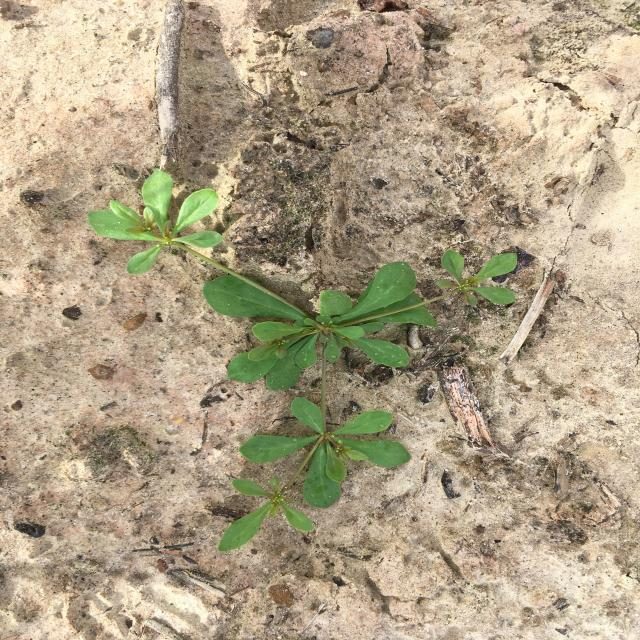Carpetweed: (86, 168, 518, 551)
